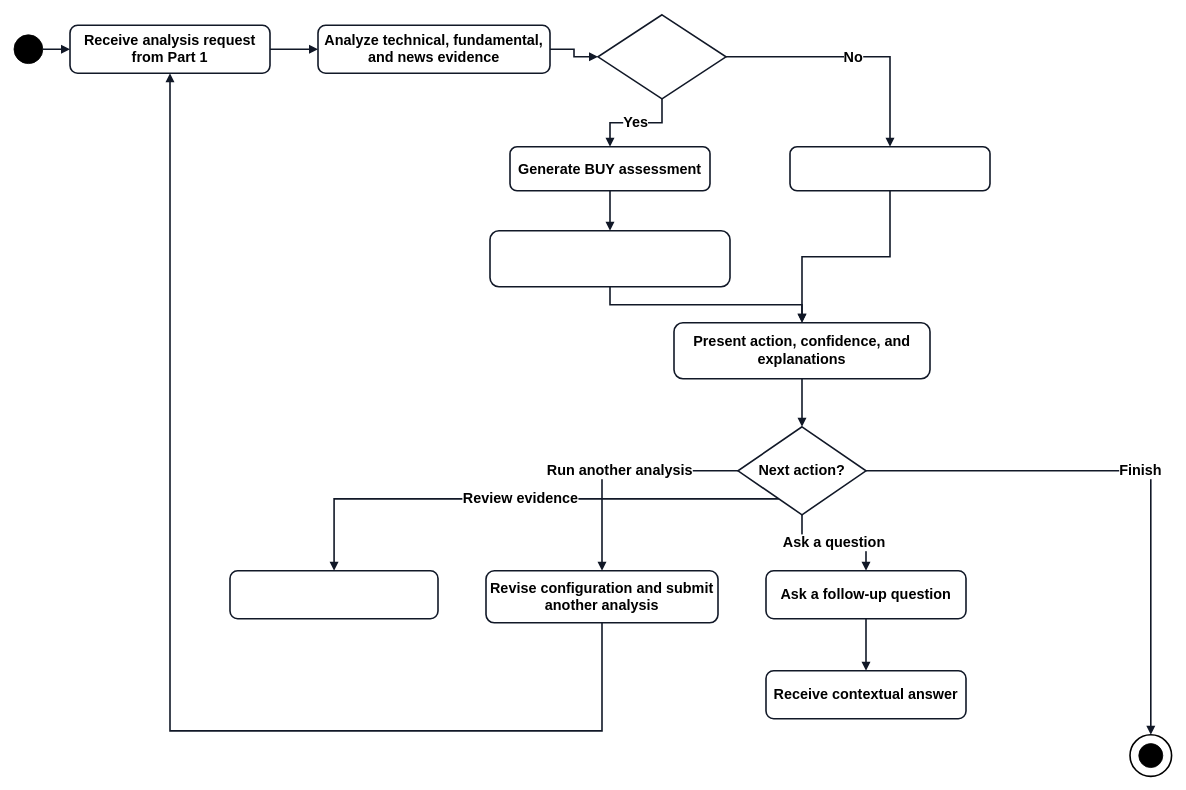
Some shapes in this 1186 by 790 pixel diagram are drawn without their labels. The shapes that lost their labels are listed below. From the top down, each one's centre as x and y in pixels, then its label:
the point at 661,56: Buy conditions satisfied?
the point at 889,168: Generate WAIT assessment
the point at 609,258: Provide entry, take-profit, stop-loss, and holding period
the point at 333,594: Return to stock information
